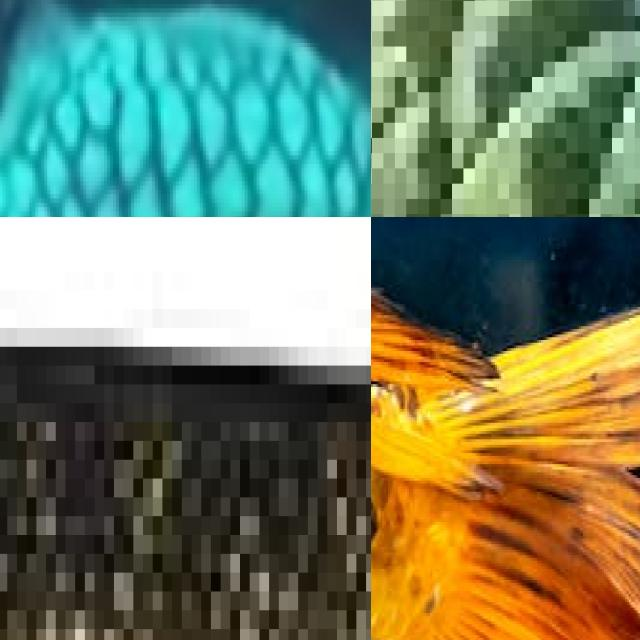fish: (371, 217, 640, 640), (0, 0, 371, 217), (371, 0, 640, 217)
